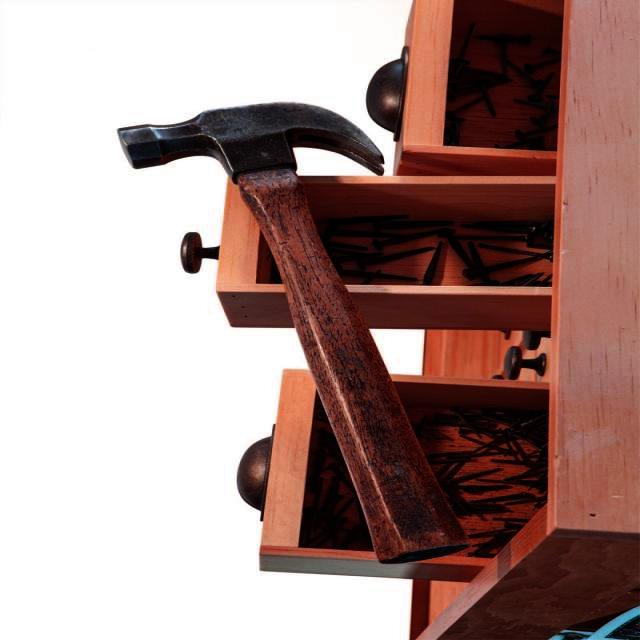hammer: (112, 85, 494, 580)
